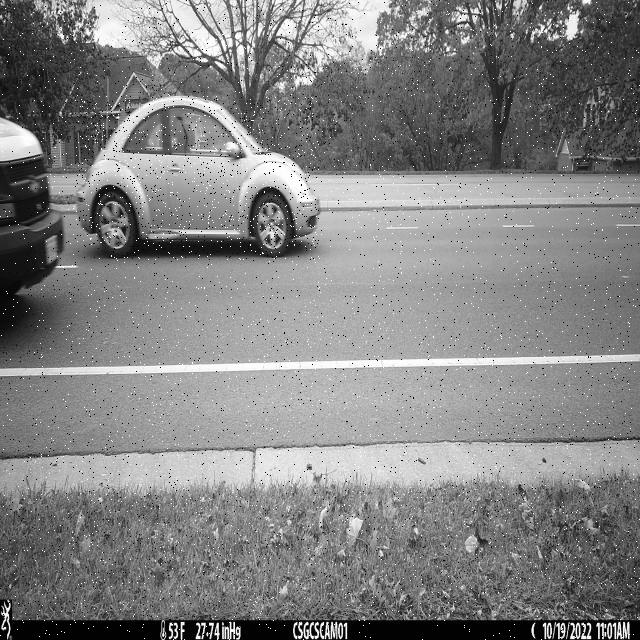Hatchback: (75, 96, 320, 259)
